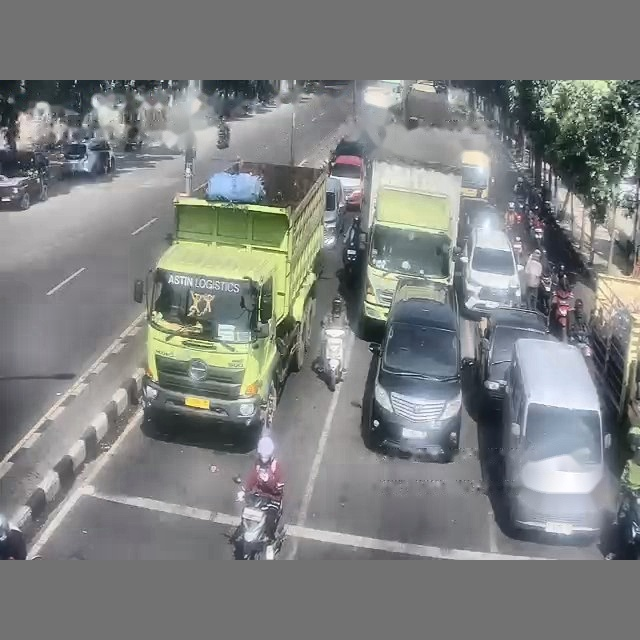Mobil: (363, 291, 470, 462), (475, 308, 555, 407), (459, 228, 522, 313), (0, 150, 48, 210), (62, 138, 115, 176), (330, 155, 364, 209), (460, 199, 504, 239), (324, 177, 345, 244)
Motor: (233, 477, 283, 559), (321, 326, 346, 391), (616, 494, 639, 559), (550, 287, 572, 341), (512, 236, 522, 264)
Truk: (134, 162, 326, 432), (362, 158, 460, 329)
